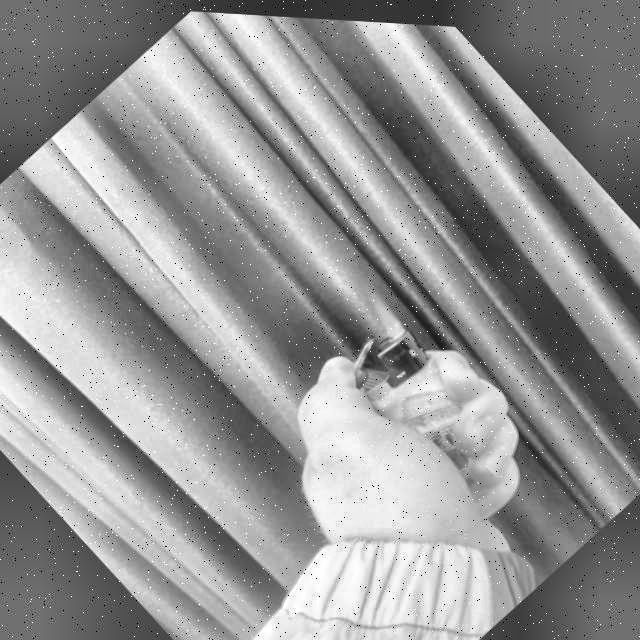Fire: (354, 282, 410, 341)
